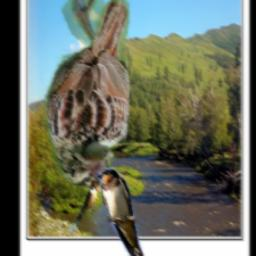Sparrow: (44, 0, 129, 188)
Swallow: (95, 167, 146, 256), (68, 179, 97, 233)
